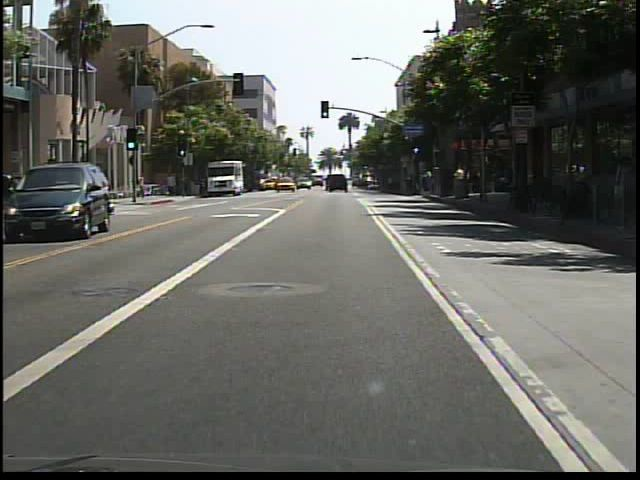person: (137, 170, 150, 203), (165, 171, 179, 198), (157, 174, 169, 197)
